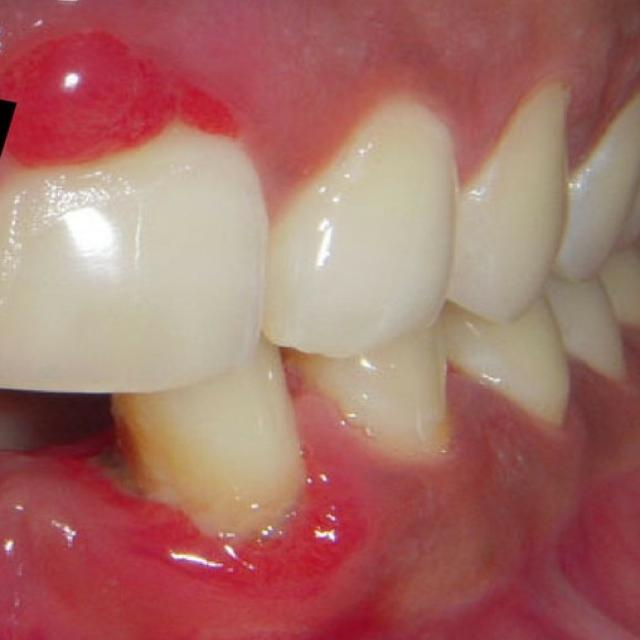abscess: (0, 0, 275, 190)
